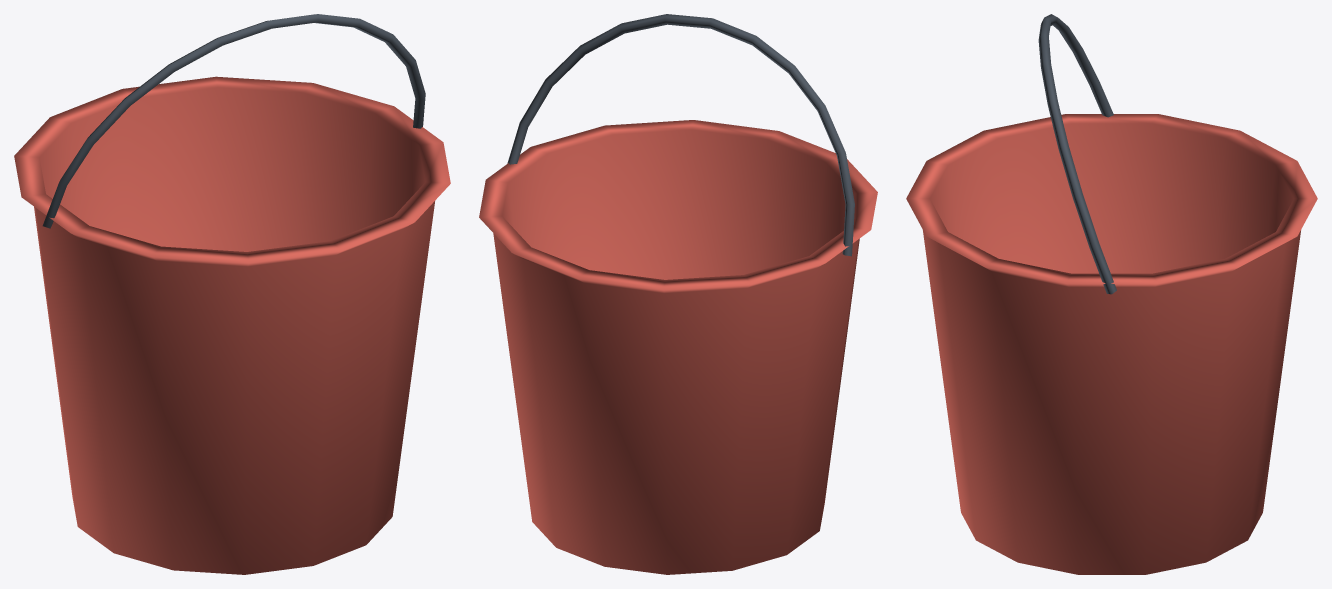
Rendered from balde_coral.glb.
3 views of the same model, side by side, from view 1: azimuth 30°, elevation 25°; view 2: azimuth 150°, elevation 25°; view 3: azimuth 270°, elevation 25° (orthographic). The views are drawn at different scales.
Parts seen in each view (by area): view 1: balde_coral_malha; view 2: balde_coral_malha; view 3: balde_coral_malha.
Part boxes in pixels (bbox=[...]): balde_coral_malha: bbox=[14, 14, 450, 574]; balde_coral_malha: bbox=[479, 14, 877, 574]; balde_coral_malha: bbox=[906, 14, 1317, 574].
Size of the model in its own units: 0.596 by 0.7699 by 0.6.
